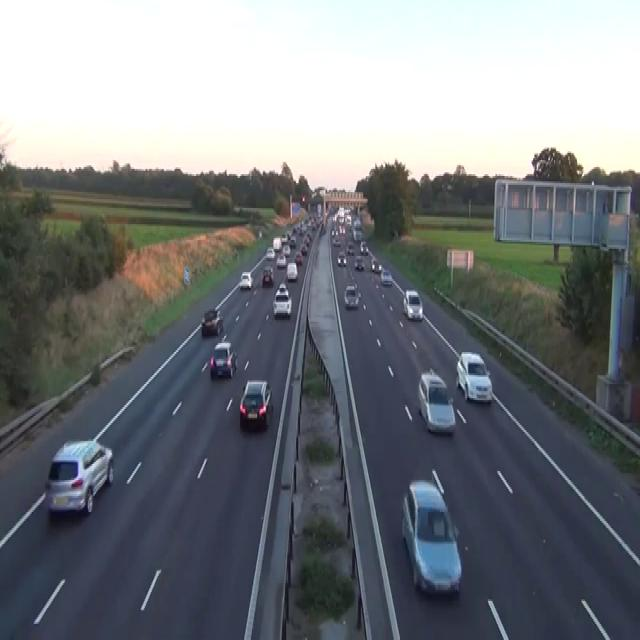Car: (401, 478, 462, 598), (44, 439, 114, 517), (417, 368, 455, 434), (455, 350, 492, 404), (239, 379, 273, 430), (210, 341, 237, 379), (402, 288, 423, 320), (200, 308, 223, 336), (272, 288, 292, 316), (344, 284, 359, 308), (261, 265, 274, 286), (239, 270, 252, 290), (286, 261, 298, 281), (380, 268, 392, 284), (337, 249, 346, 267), (354, 256, 364, 270), (276, 252, 286, 266), (371, 258, 381, 272), (266, 246, 275, 260), (359, 240, 368, 254), (272, 237, 281, 250), (280, 231, 289, 244), (294, 251, 302, 265), (278, 283, 288, 293), (346, 242, 354, 254), (282, 244, 290, 256), (441, 182, 453, 190), (289, 235, 296, 247), (332, 237, 341, 246), (353, 217, 361, 227), (371, 258, 377, 270), (300, 244, 307, 254), (376, 263, 382, 274), (321, 222, 326, 235), (305, 233, 311, 243), (258, 228, 262, 238), (301, 194, 306, 202)
